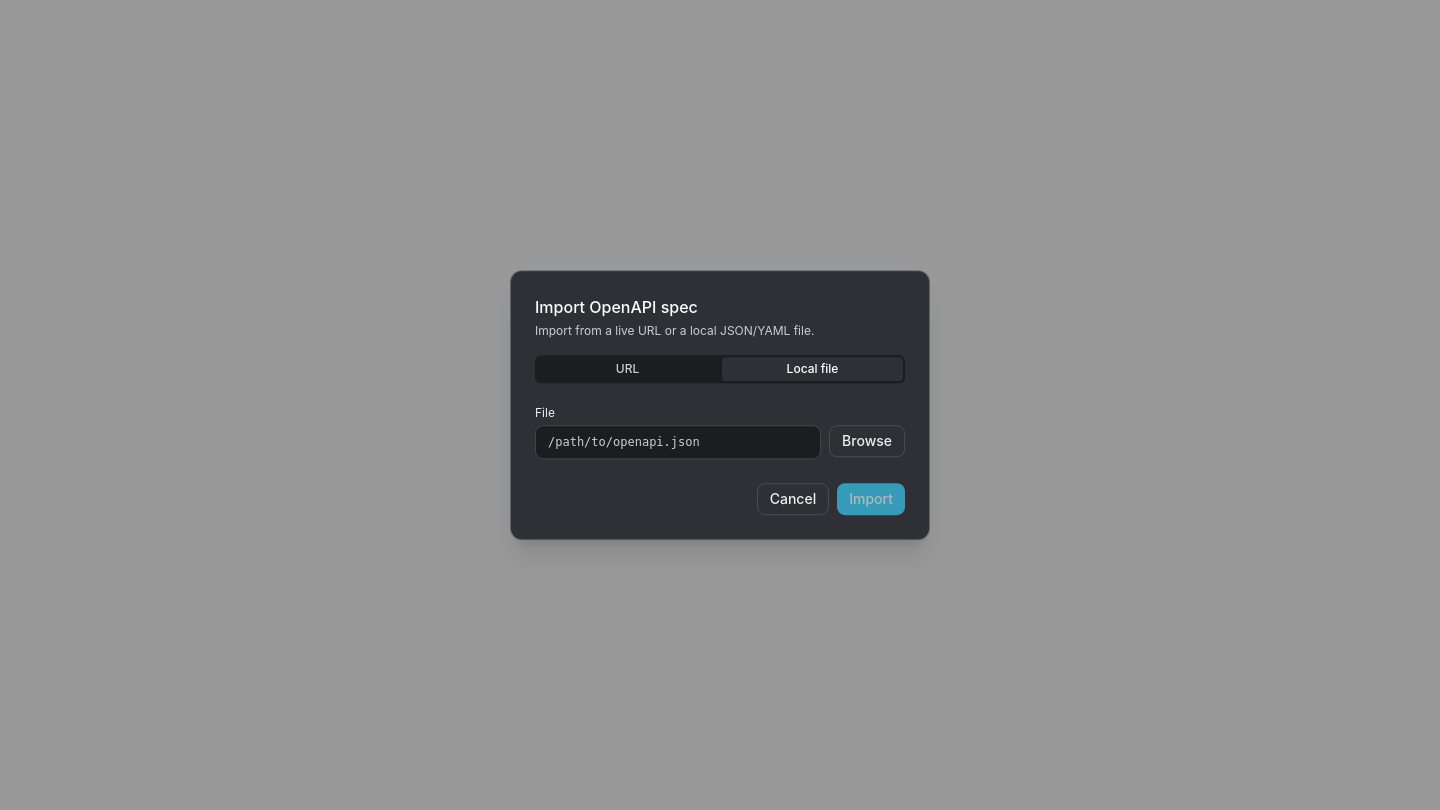
Scenario: ImportSpecDialog › enables import button when URL is entered
Click the radio button with test id "import-mode-url". click: (628, 369)
box: x1=537 y1=357 x2=718 y2=381
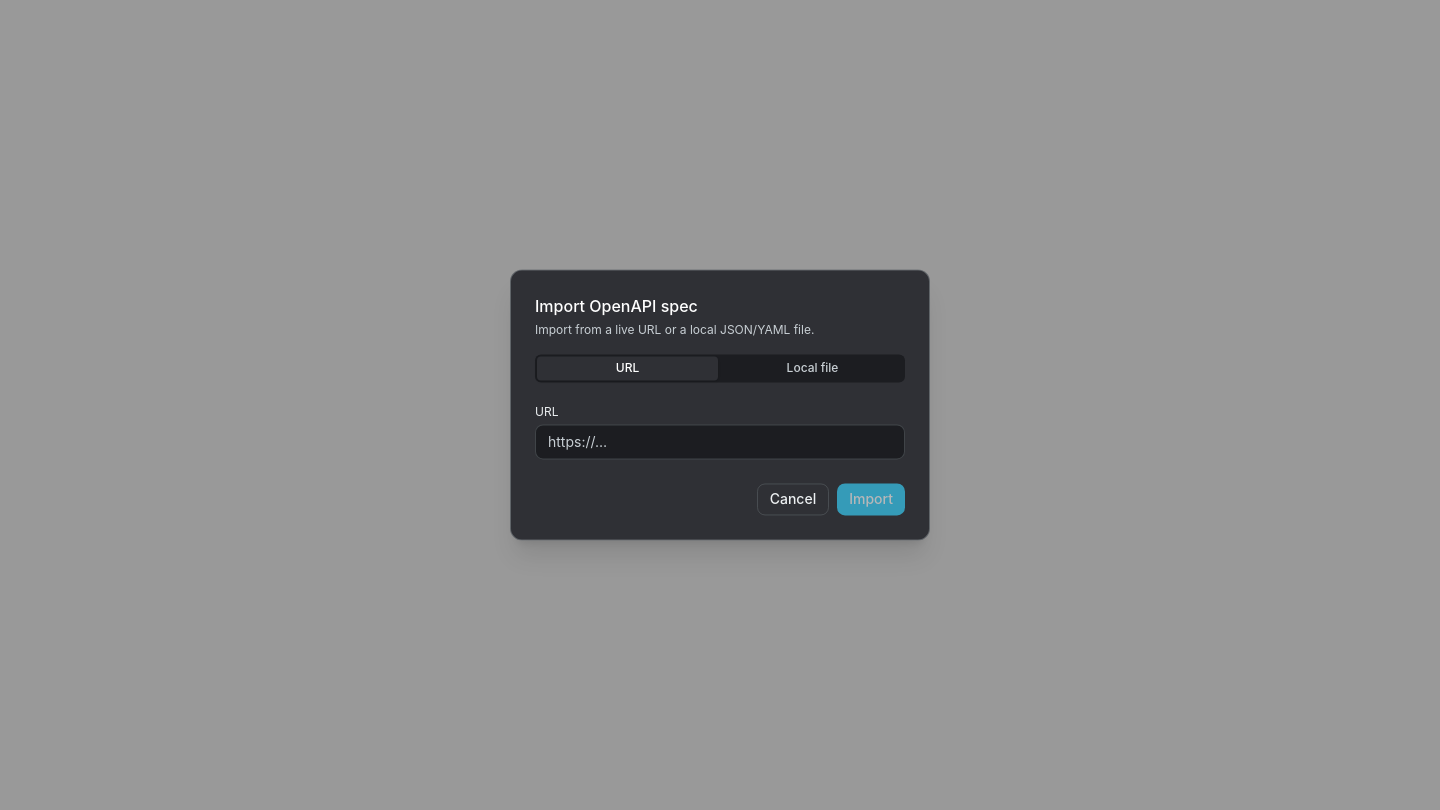
Type "https://petstore3.swagger.io/api/v3/openapi.json" into the field with test id "import-spec-url-input". click: (720, 442)
box: x1=535 y1=424 x2=905 y2=460
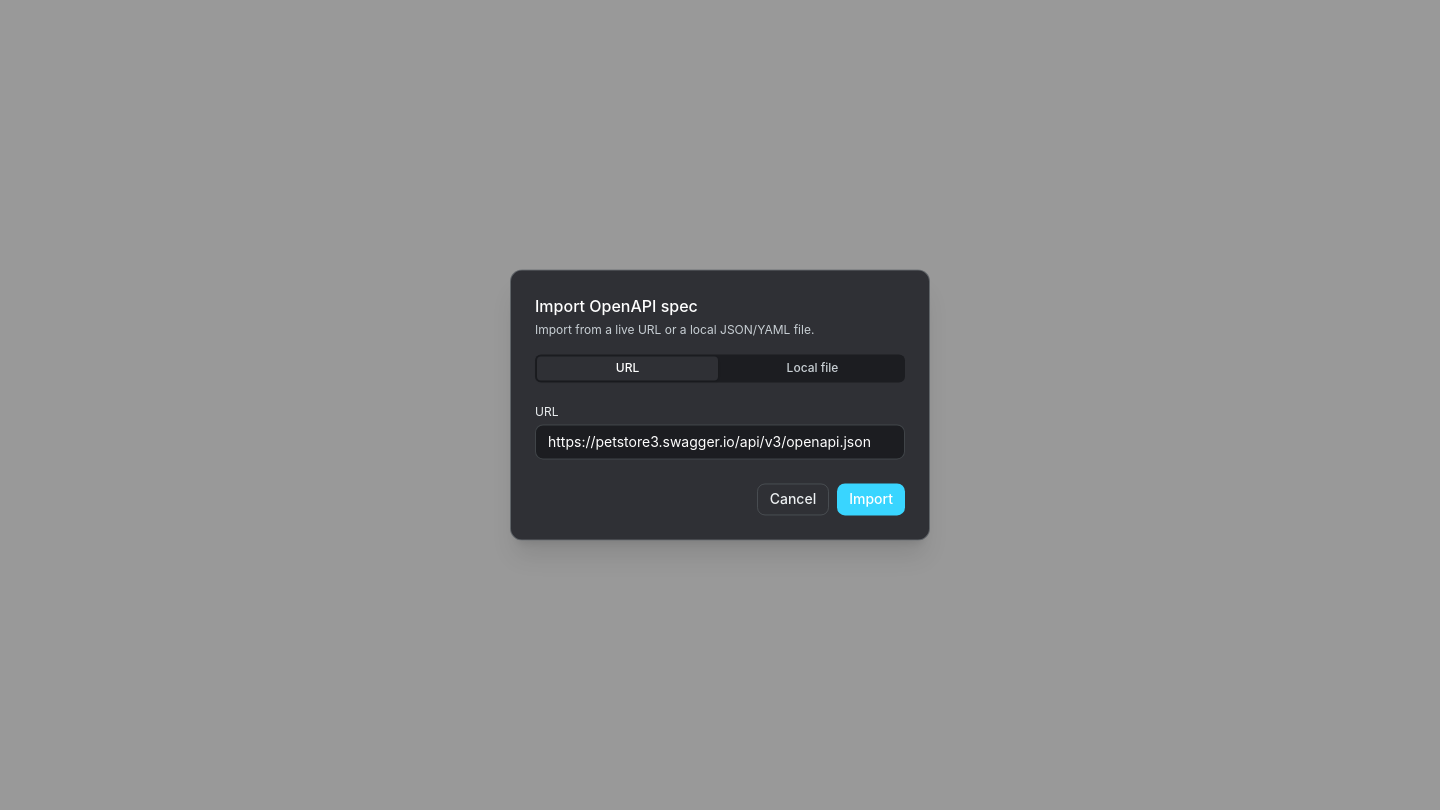
Expected: the button with test id "import-spec-submit" is enabled, x1=837 y1=484 x2=905 y2=516
